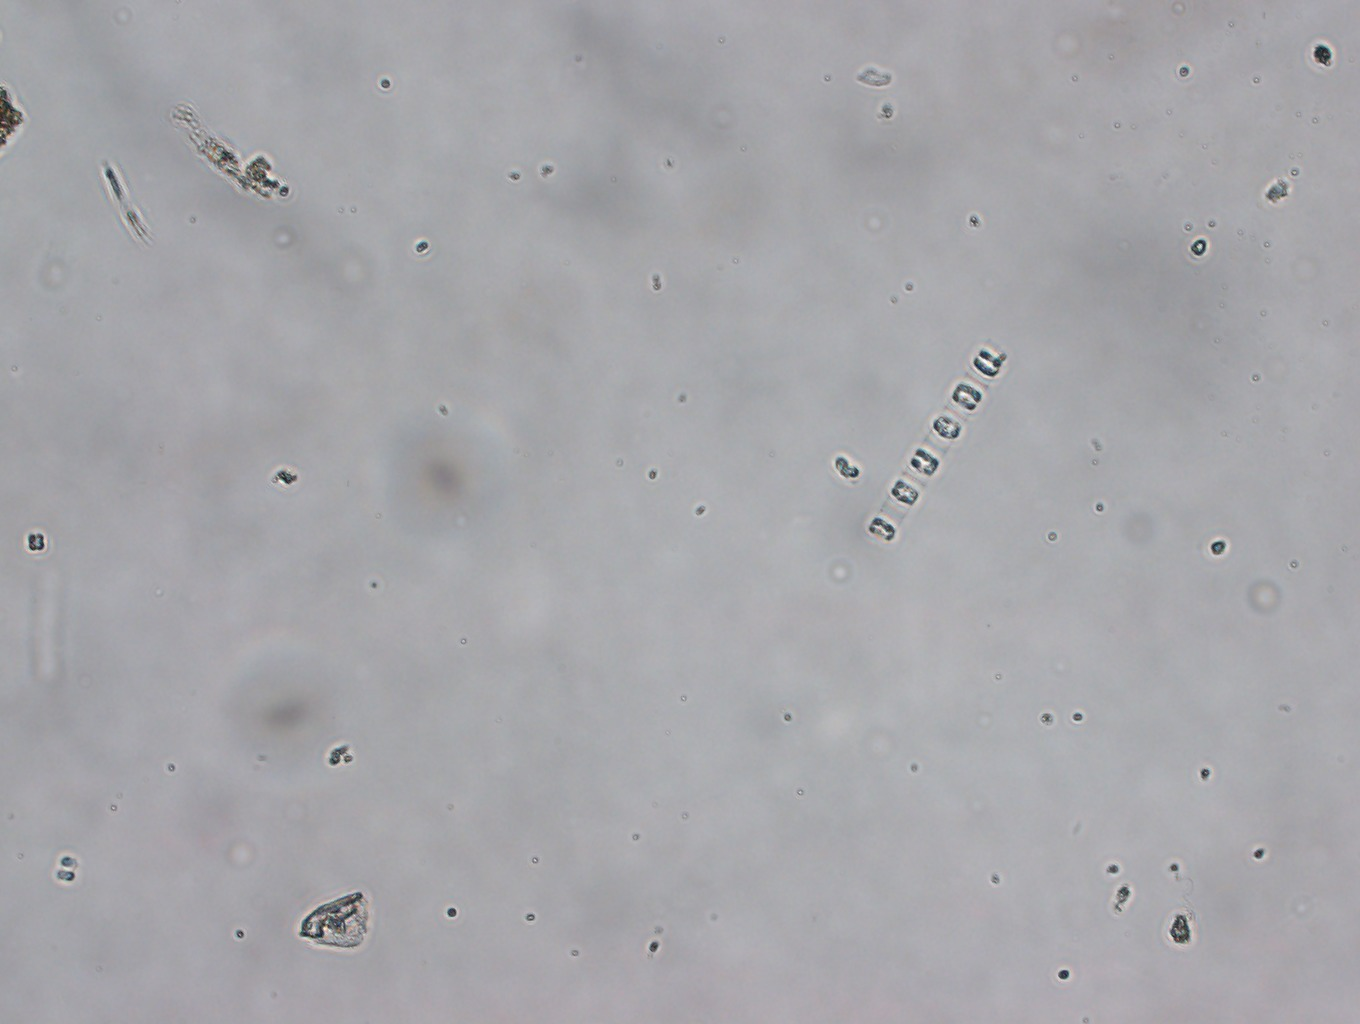skeletonema: (864, 340, 1010, 551)
